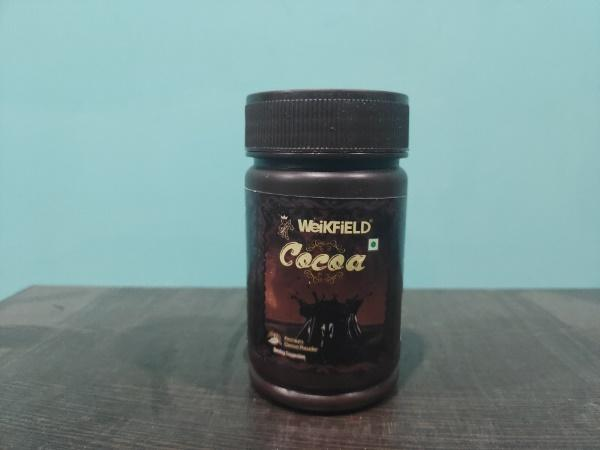Cocoa Powder: (226, 82, 435, 419)
